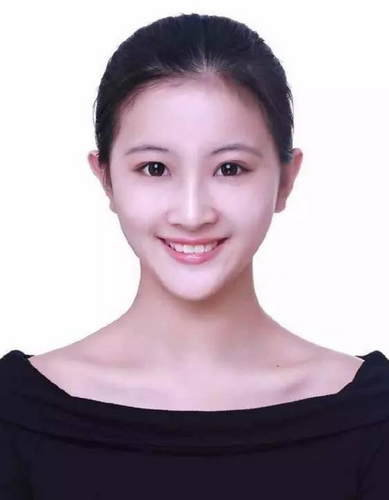unmask: (115, 95, 284, 289)
